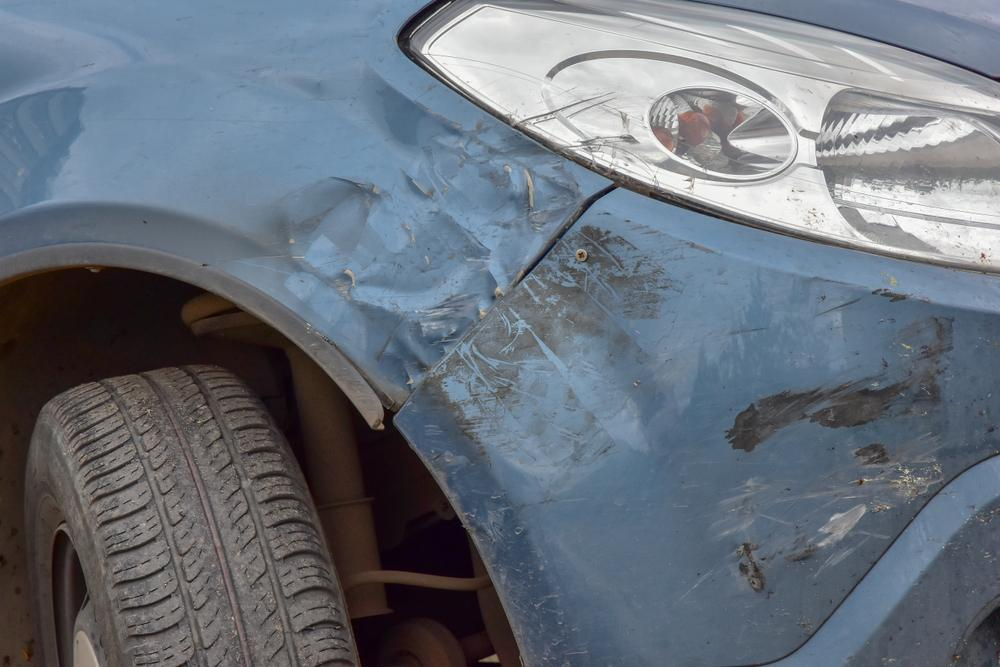dent: (263, 121, 578, 400), (431, 217, 704, 476)
scratch: (690, 281, 964, 623)
